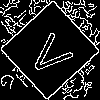V: (25, 25, 82, 81)
